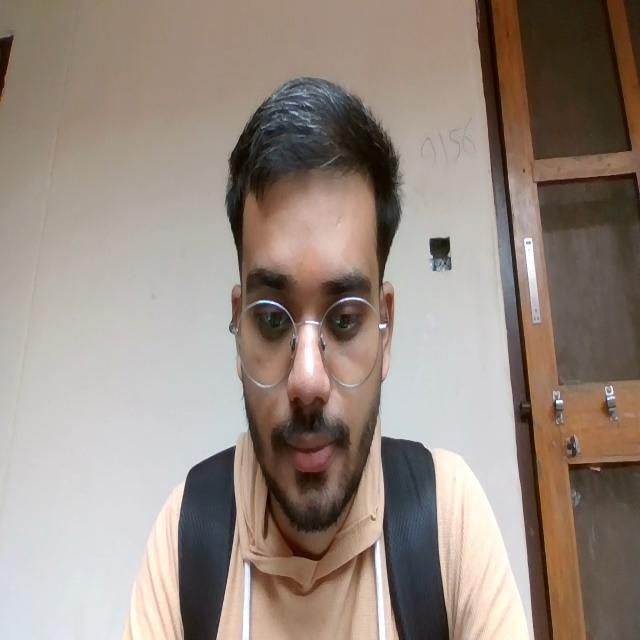awake: (241, 254, 363, 466)
